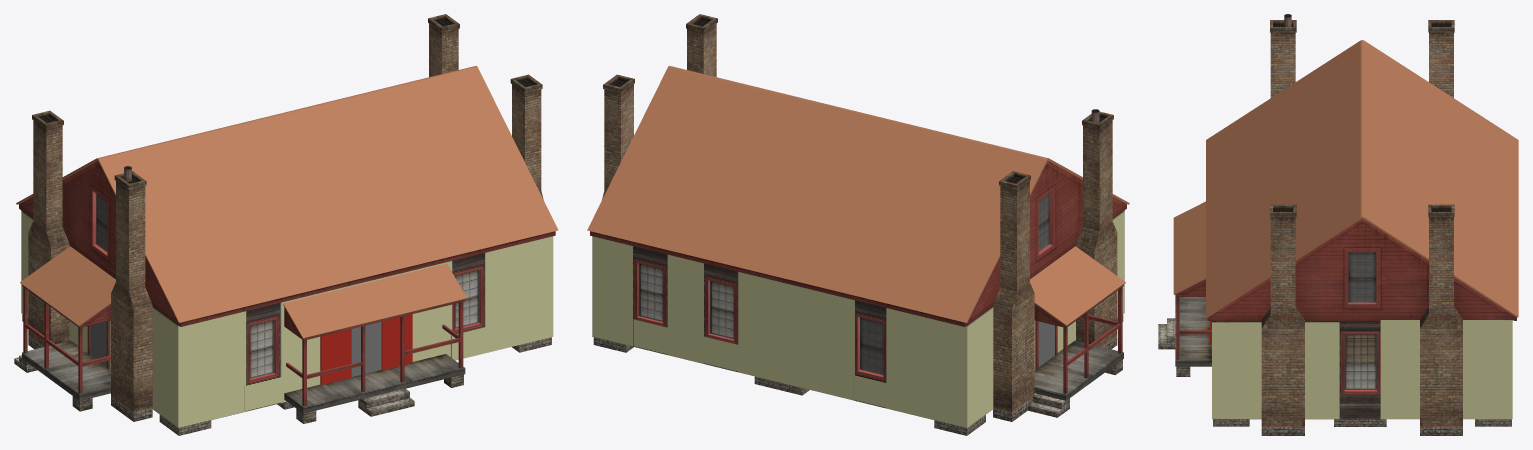
3 views of the same model, side by side, from view 1: azimuth 30°, elevation 25°; view 2: azimuth 150°, elevation 25°; view 3: azimuth 270°, elevation 25° (orthographic). The views are drawn at different scales.
Visible parts, largest first — view 1: House020_House20_0; view 2: House020_House20_0; view 3: House020_House20_0.
Boxes of the visible parts, x1,y1,x2,y2 form: House020_House20_0: (14, 14, 558, 435); House020_House20_0: (587, 14, 1129, 435); House020_House20_0: (1158, 14, 1518, 435).
Bounding box in the file's own units: 13.3 × 6.92 × 9.76.
1 material, 1 textured.
